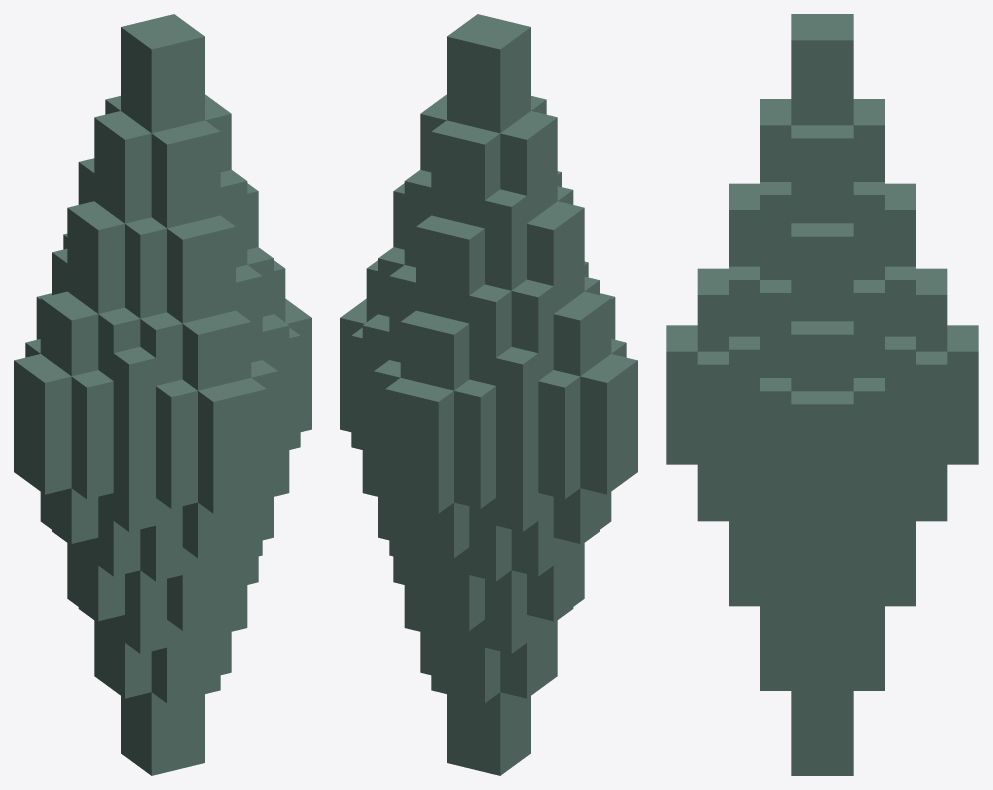
The model's file is Crystal_Big_1.glb.
3 views of the same model, side by side, from view 1: azimuth 30°, elevation 25°; view 2: azimuth 150°, elevation 25°; view 3: azimuth 270°, elevation 25° (orthographic).
Parts seen in each view (by area): view 1: Crystal_Big_1; view 2: Crystal_Big_1; view 3: Crystal_Big_1.
Part boxes in pixels (x1,y1,x2,y2): Crystal_Big_1: [14, 14, 311, 775]; Crystal_Big_1: [340, 14, 637, 775]; Crystal_Big_1: [666, 14, 978, 775].
Bounding box in the file's own units: 0.25 × 0.65 × 0.25.
